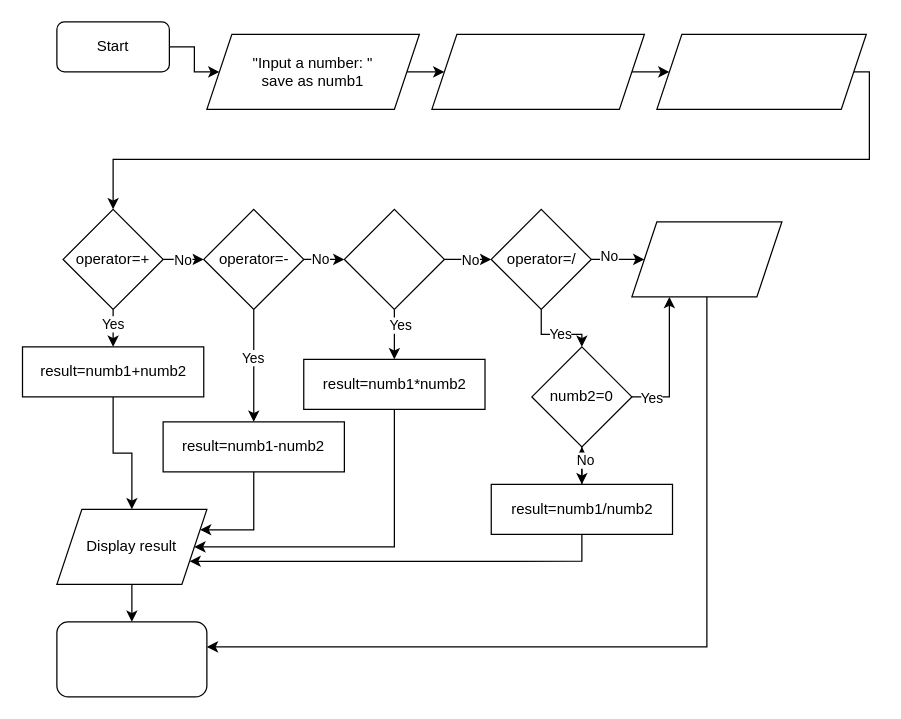
Image size: 901x719. Some labels were removed from this diagram. Each missing label, with the box of its shape:
"Error": (631, 221, 782, 297)
"Input another number: " save as numb2: (431, 33, 644, 109)
"Input operator(+,-,*,/): " save as operator: (656, 33, 866, 109)
End: (56, 621, 207, 697)
operator=*: (343, 208, 444, 309)
